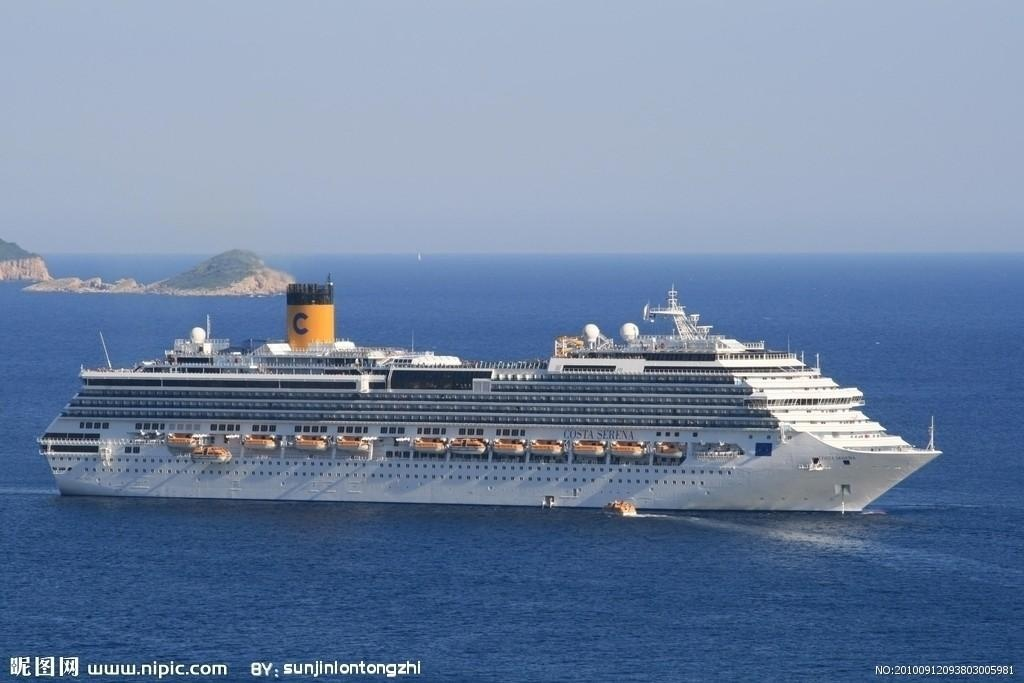youlun: (35, 273, 948, 510)
